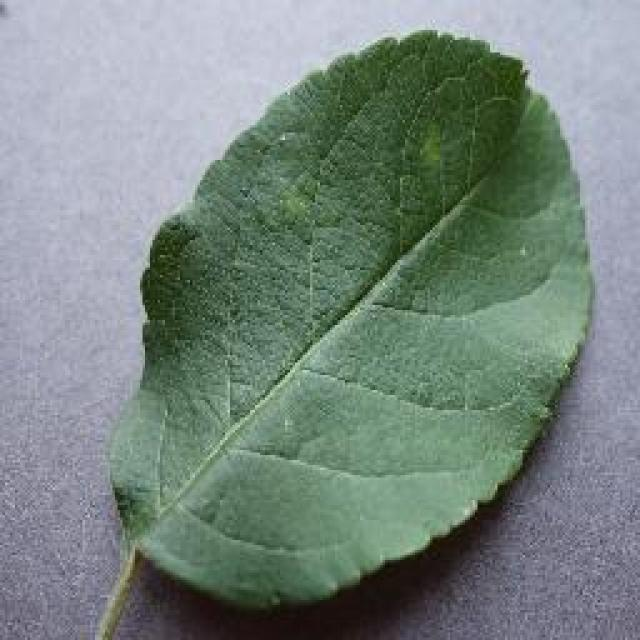apple healthy: (82, 25, 598, 637)
